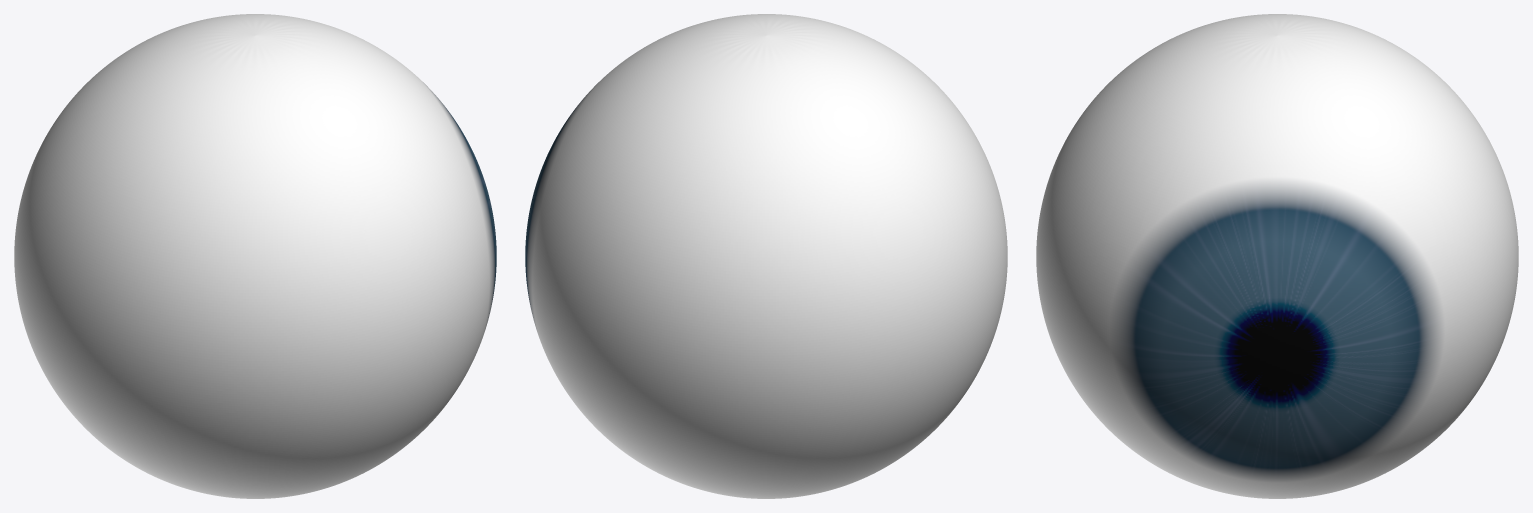
The model's file is eye_low.glb.
3 renders of one model, left to right at view 1: azimuth 30°, elevation 25°; view 2: azimuth 150°, elevation 25°; view 3: azimuth 270°, elevation 25°, orthographic.
Visible parts, largest first — view 1: Sphere; view 2: Sphere; view 3: Sphere.
Part boxes in pixels (left/top/right/bottom): Sphere: left=14, top=14, right=496, bottom=498; Sphere: left=525, top=14, right=1007, bottom=498; Sphere: left=1036, top=14, right=1518, bottom=498.
Size of the model in its own units: 1.97 by 2 by 1.97.
Materials: 1 (1 with a texture image).
